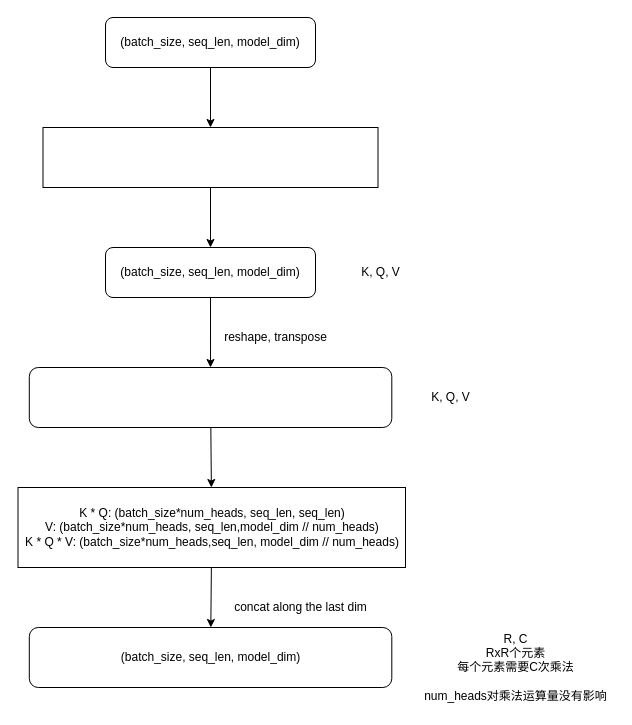
The diagram is 632 pixels wide and 725 high, and some of its shapes have lost their labels. Each missing label, with the box of its shape:
(batch_size*num_heads, seq_len, model_dim // num_heads): (28, 366, 392, 428)
W_k, W_q, W_v: (model_dim, model_dim): (42, 126, 378, 188)
